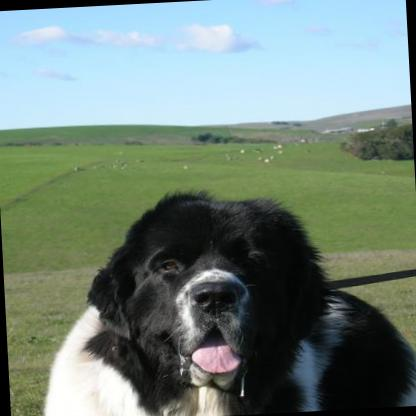Newfoundland: (29, 172, 416, 416)
